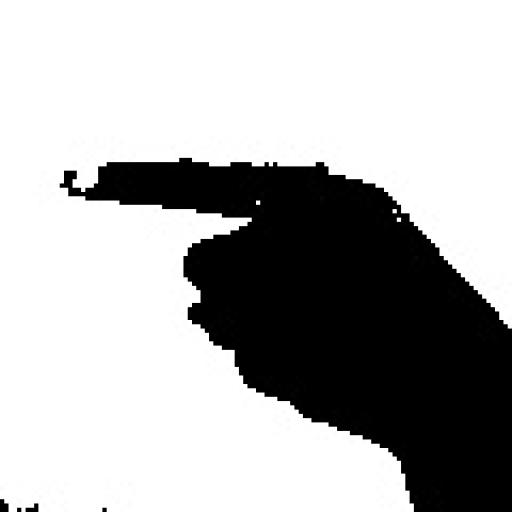index_left: (57, 156, 512, 372)
